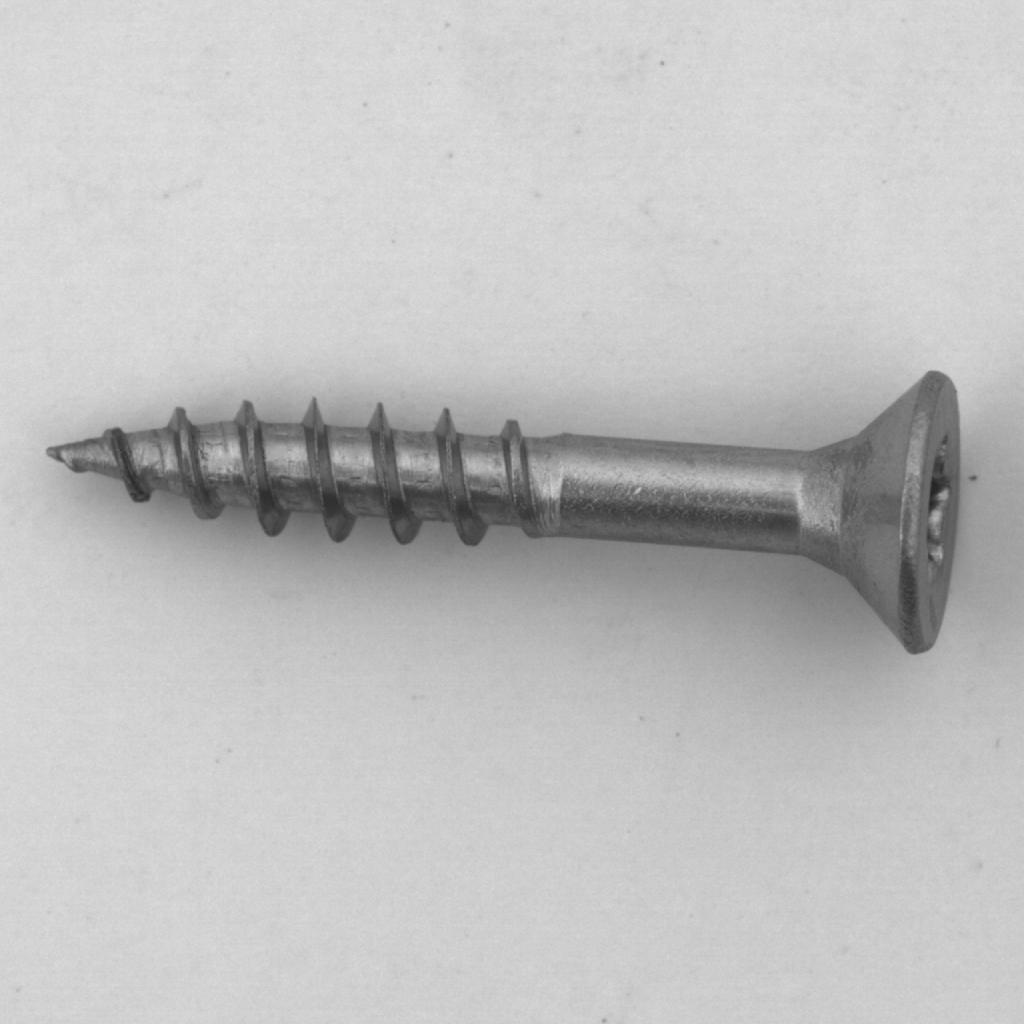good: (30, 351, 988, 681)
